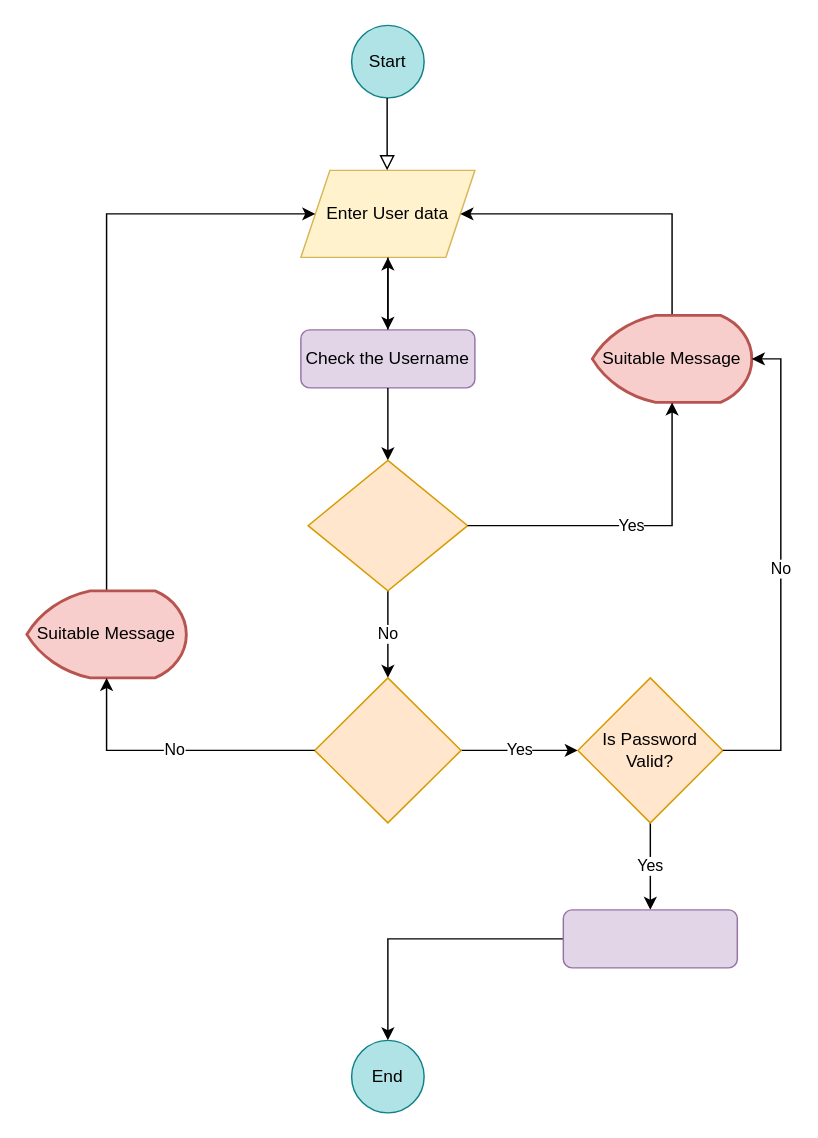
This 818x1138 diagram has some shape labels left out. The shapes that lost their labels are listed below. From the top down, each one's centre as x and y in pixels, then its label:
At (387,525): "Is username exist?".
At (387,749): "Is Username valid?".
At (649,938): "Save data into DB".
